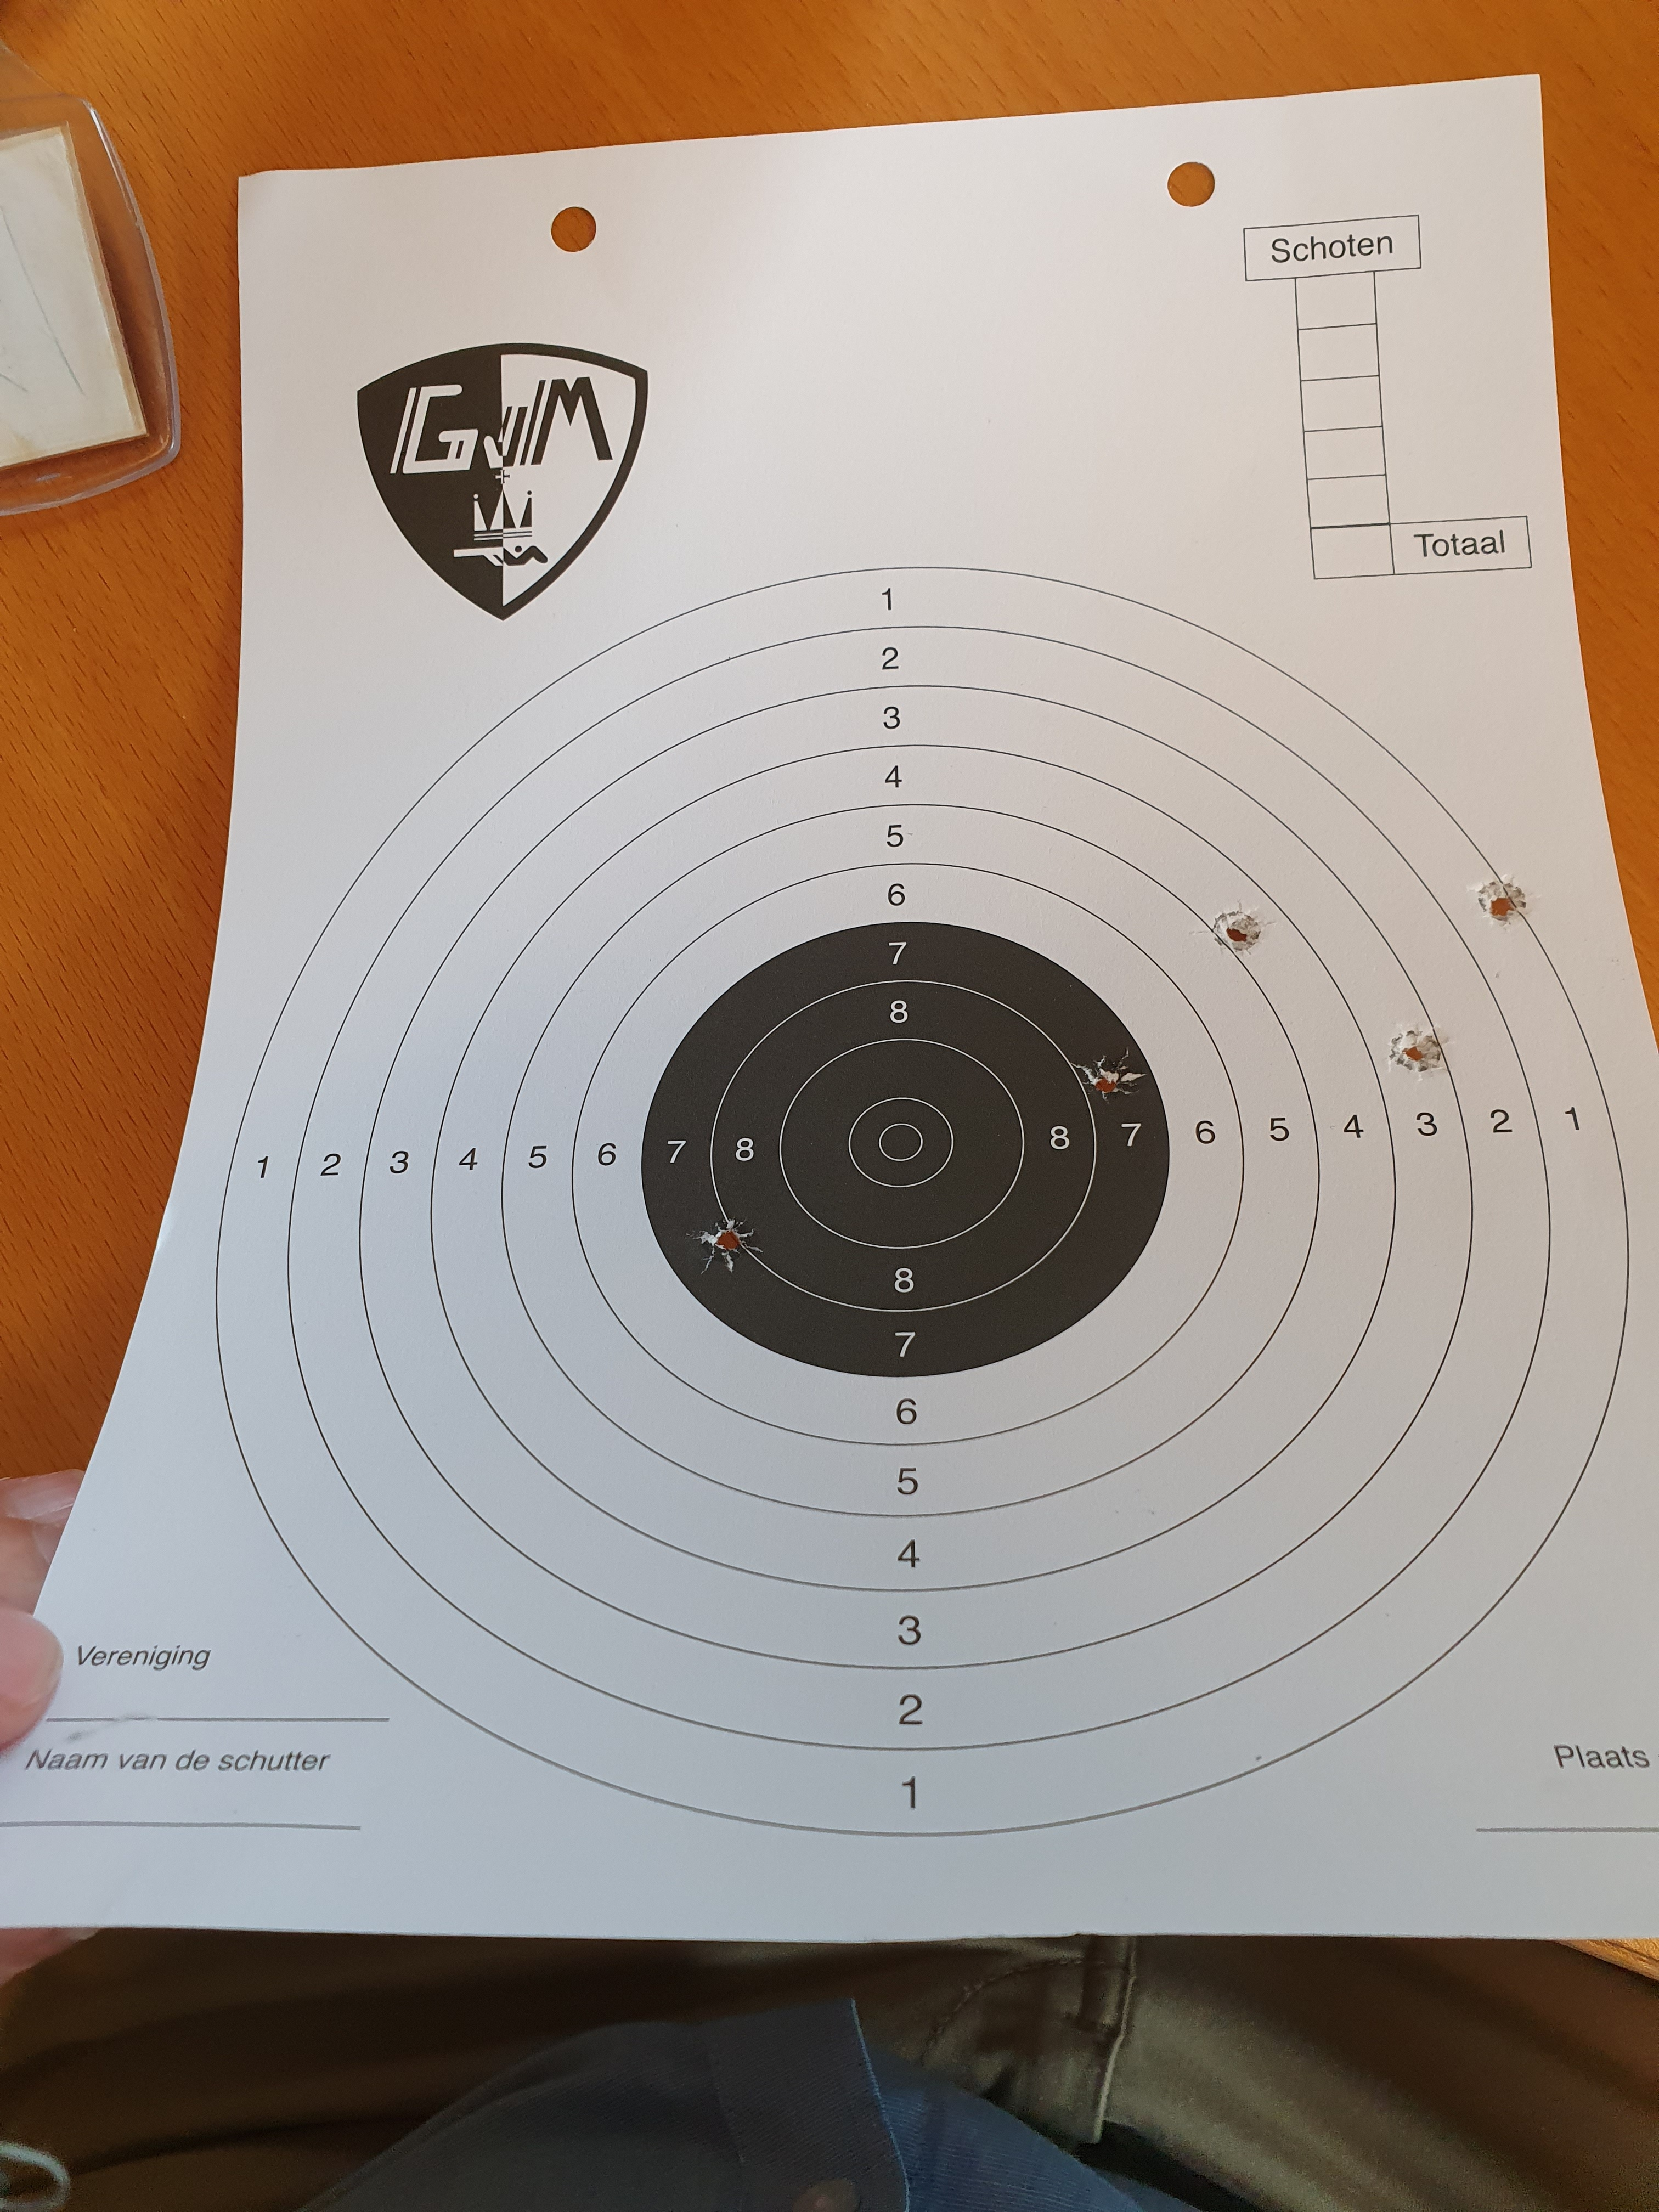center: (640, 921, 1169, 1376)
out: (214, 566, 1631, 1834)
shot: (1188, 894, 1276, 958), (681, 1212, 765, 1278), (1066, 1042, 1148, 1106), (1466, 869, 1544, 930), (1384, 1021, 1457, 1082)
target: (847, 1096, 955, 1188)
